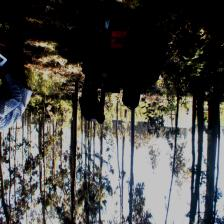trunktrack_idkeyframe: (207, 74, 220, 178), (133, 75, 140, 175), (70, 107, 79, 163), (201, 92, 207, 164), (179, 81, 183, 128)
